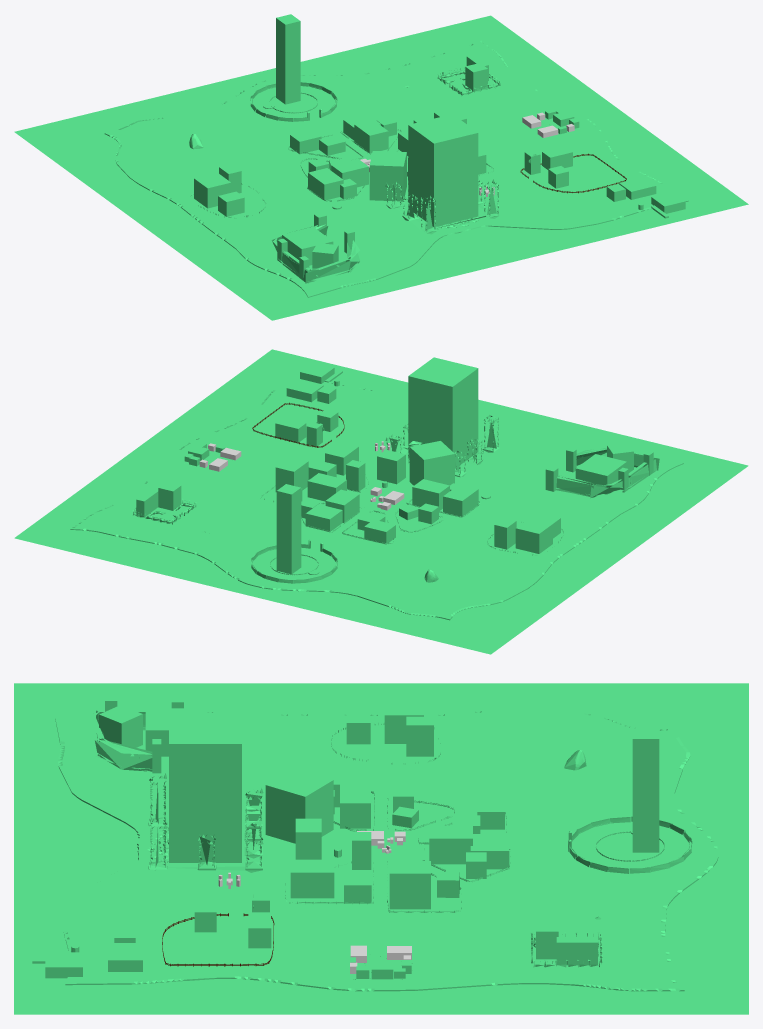
3 views of the same model, one above another, from view 1: azimuth 30°, elevation 25°; view 2: azimuth 150°, elevation 25°; view 3: azimuth 270°, elevation 25° (orthographic). The views are drawn at different scales.
Parts seen in each view (by area): view 1: COL_Ground, COL_Water, COL_Temple_SecondAge_Level2, COL_House_3.001, COL_Barracks_SecondAge_Level3, COL_Wall_SecondAge.002, COL_WonderWalls_SecondAge, COL_Barracks_FirstAge_Level2.001, COL_Blacksmith, COL_Houses_SecondAge_2_Level2.001, COL_Stable.001, COL_Houses_SecondAge_2_Level2.002 (+8 smaller); view 2: COL_Ground, COL_Water, COL_Temple_SecondAge_Level2, COL_House_3.001, COL_Wall_SecondAge.002, COL_Barracks_SecondAge_Level3, COL_WonderWalls_SecondAge, COL_Barracks_FirstAge_Level2.001, COL_Blacksmith, COL_Inn, COL_Stable.001, COL_TowerHouse_SecondAge (+13 smaller); view 3: COL_Ground, COL_Water, COL_Temple_SecondAge_Level2, COL_Barracks_SecondAge_Level3, COL_House_3.001, COL_WonderWalls_SecondAge, COL_Inn, COL_Houses_SecondAge_2_Level2, COL_Wall_SecondAge.002, COL_Houses_SecondAge_2_Level2.001, COL_House_2.001, COL_Wall_SecondAge (+19 smaller).
Boxes of the visible parts, bbox=[...] form: COL_Ground: bbox=[104, 39, 688, 297]; COL_Water: bbox=[14, 15, 748, 320]; COL_Temple_SecondAge_Level2: bbox=[408, 114, 478, 226]; COL_House_3.001: bbox=[276, 14, 300, 104]; COL_Barracks_SecondAge_Level3: bbox=[369, 151, 406, 201]; COL_Wall_SecondAge.002: bbox=[271, 224, 360, 283]; COL_WonderWalls_SecondAge: bbox=[385, 179, 499, 234]; COL_Barracks_FirstAge_Level2.001: bbox=[282, 227, 333, 265]; COL_Blacksmith: bbox=[194, 172, 231, 208]; COL_Houses_SecondAge_2_Level2.001: bbox=[354, 120, 388, 153]; COL_Stable.001: bbox=[308, 168, 343, 200]; COL_Houses_SecondAge_2_Level2.002: bbox=[331, 158, 368, 187]; COL_Ground: bbox=[70, 372, 683, 620]; COL_Water: bbox=[14, 349, 748, 654]; COL_Temple_SecondAge_Level2: bbox=[408, 357, 478, 468]; COL_House_3.001: bbox=[276, 484, 301, 574]; COL_Wall_SecondAge.002: bbox=[556, 448, 659, 498]; COL_Barracks_SecondAge_Level3: bbox=[409, 441, 454, 485]; COL_WonderWalls_SecondAge: bbox=[385, 415, 499, 477]; COL_Barracks_FirstAge_Level2.001: bbox=[575, 454, 626, 494]; COL_Blacksmith: bbox=[515, 518, 552, 553]; COL_Inn: bbox=[275, 456, 308, 492]; COL_Stable.001: bbox=[443, 484, 478, 516]; COL_TowerHouse_SecondAge: bbox=[377, 449, 405, 484]; COL_Ground: bbox=[55, 709, 718, 991]; COL_Water: bbox=[14, 683, 748, 1014]; COL_Temple_SecondAge_Level2: bbox=[169, 713, 241, 862]; COL_Barracks_SecondAge_Level3: bbox=[265, 768, 333, 843]; COL_House_3.001: bbox=[632, 728, 659, 852]; COL_WonderWalls_SecondAge: bbox=[148, 773, 263, 872]; COL_Inn: bbox=[389, 861, 430, 909]; COL_Houses_SecondAge_2_Level2: bbox=[290, 859, 334, 898]; COL_Wall_SecondAge.002: bbox=[87, 709, 207, 771]; COL_Houses_SecondAge_2_Level2.001: bbox=[429, 825, 472, 864]; COL_House_2.001: bbox=[99, 705, 142, 747]; COL_Wall_SecondAge: bbox=[569, 816, 692, 873].
Bounding box in the file's own units: 320 × 56.78 × 300.
Materials: 2 (1 with a texture image).
